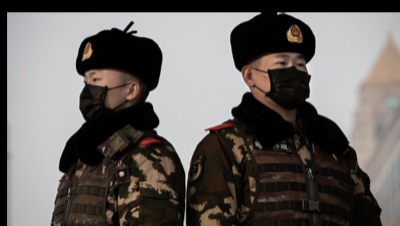with_mask: (254, 52, 311, 106), (80, 70, 128, 121)
